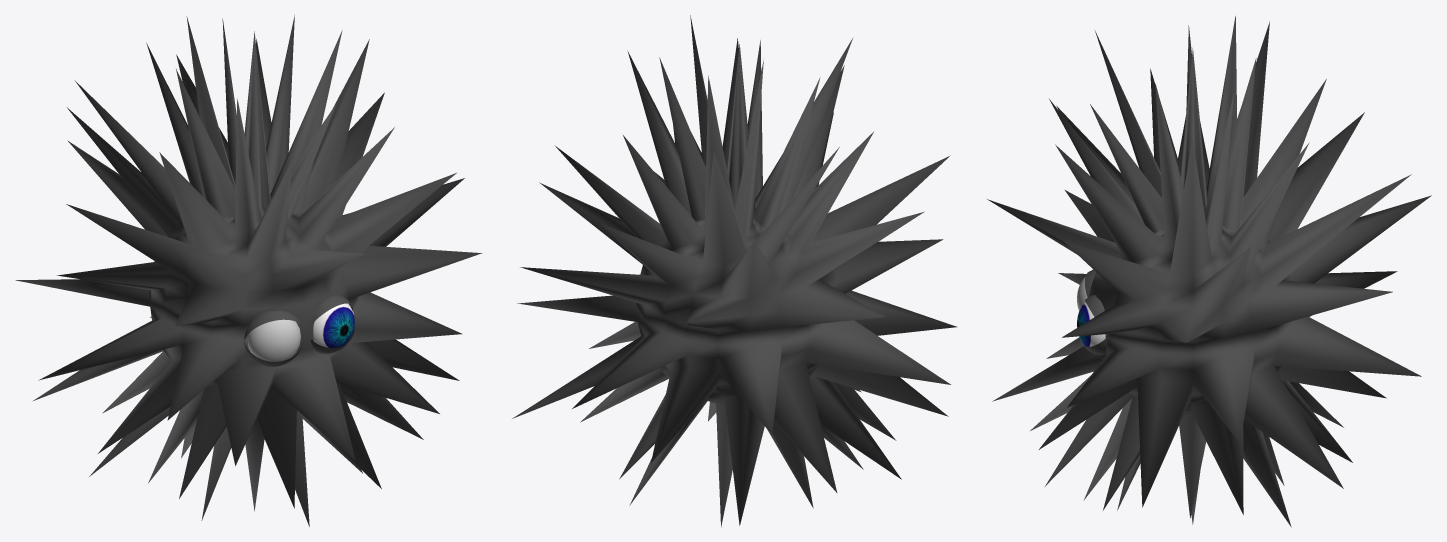
The model's file is Hedgehog 3.fbx.
3 views of the same model, side by side, from view 1: azimuth 30°, elevation 25°; view 2: azimuth 150°, elevation 25°; view 3: azimuth 270°, elevation 25° (orthographic). The views are drawn at different scales.
Parts seen in each view (by area): view 1: poly_hedgehog, poly_Eye_right, poly_Eye_left, poly_Eyelid_right, poly_Eyelid_left; view 2: poly_hedgehog; view 3: poly_hedgehog, poly_Eyelid_left.
Boxes of the visible parts, x1=… form: poly_hedgehog: x1=15, y1=14, x2=482, y2=526; poly_Eye_right: x1=247, y1=319, x2=300, y2=361; poly_Eye_left: x1=313, y1=303, x2=354, y2=347; poly_Eyelid_right: x1=244, y1=310, x2=303, y2=366; poly_Eyelid_left: x1=310, y1=294, x2=354, y2=353; poly_hedgehog: x1=512, y1=15, x2=956, y2=527; poly_hedgehog: x1=987, y1=16, x2=1431, y2=527; poly_Eyelid_left: x1=1080, y1=295, x2=1107, y2=355.
Bounding box in the file's own units: 4.62 × 5.12 × 4.23.
